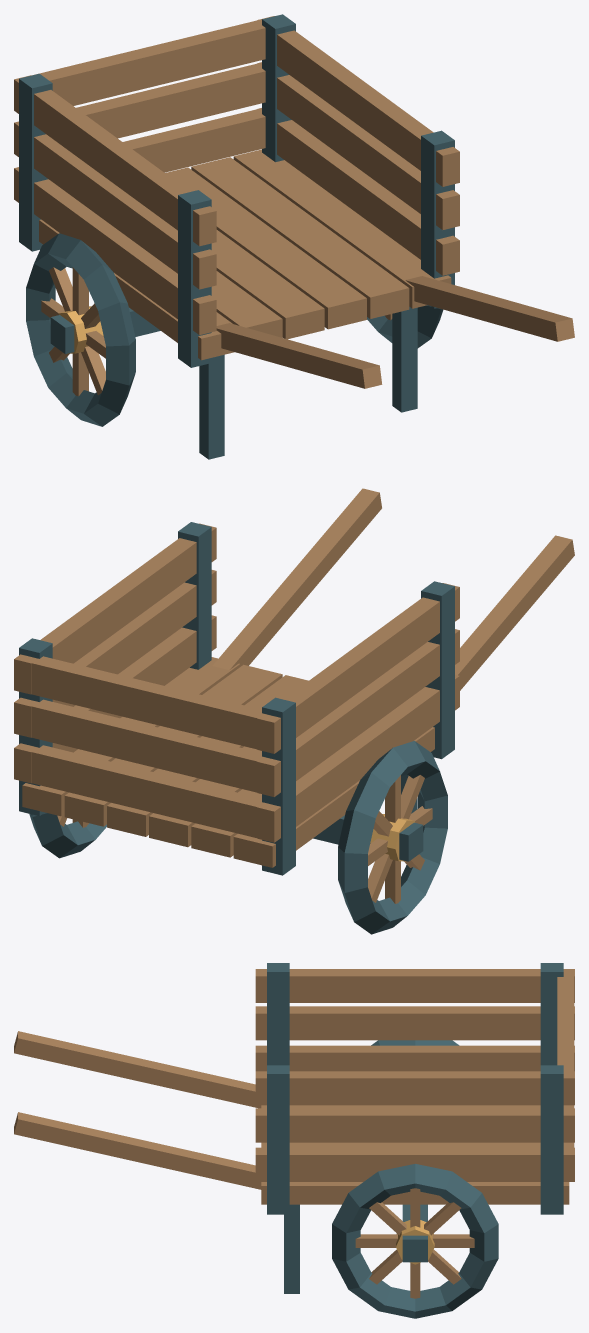
File: AC_Handcart.glb
3 views of the same model, one above another, from view 1: azimuth 30°, elevation 25°; view 2: azimuth 150°, elevation 25°; view 3: azimuth 270°, elevation 25° (orthographic). The views are drawn at different scales.
Parts seen in each view (by area): view 1: AC_Handcart; view 2: AC_Handcart; view 3: AC_Handcart.
Boxes of the visible parts, x1=… form: AC_Handcart: x1=14, y1=14, x2=574, y2=459; AC_Handcart: x1=14, y1=488, x2=574, y2=934; AC_Handcart: x1=14, y1=963, x2=574, y2=1318.
Size of the model in its own units: 1.56 by 1.14 by 2.46.
